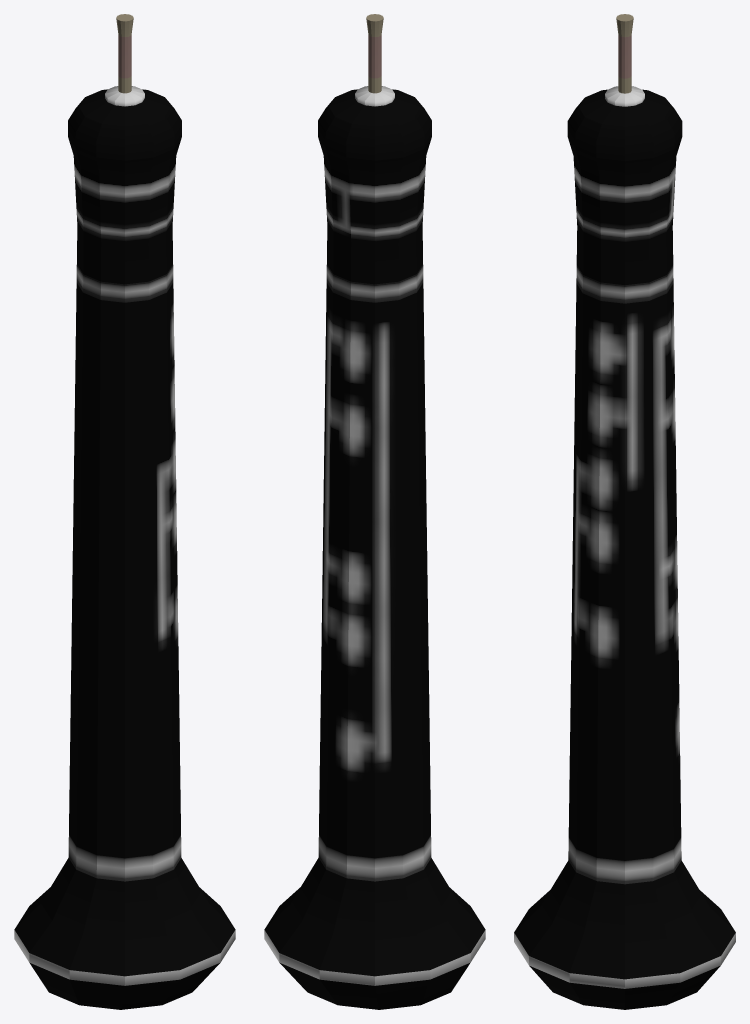
The model's file is oboe.fbx.
3 renders of one model, left to right at view 1: azimuth 30°, elevation 25°; view 2: azimuth 150°, elevation 25°; view 3: azimuth 270°, elevation 25°, orthographic.
Parts seen in each view (by area): view 1: pCylinder1; view 2: pCylinder1; view 3: pCylinder1.
Boxes of the visible parts, bbox=[...] form: pCylinder1: bbox=[14, 14, 235, 1009]; pCylinder1: bbox=[264, 14, 485, 1009]; pCylinder1: bbox=[514, 14, 735, 1009].
Bounding box in the file's own units: 1.04 × 4.98 × 1.04.
Materials: 1 (1 with a texture image).
